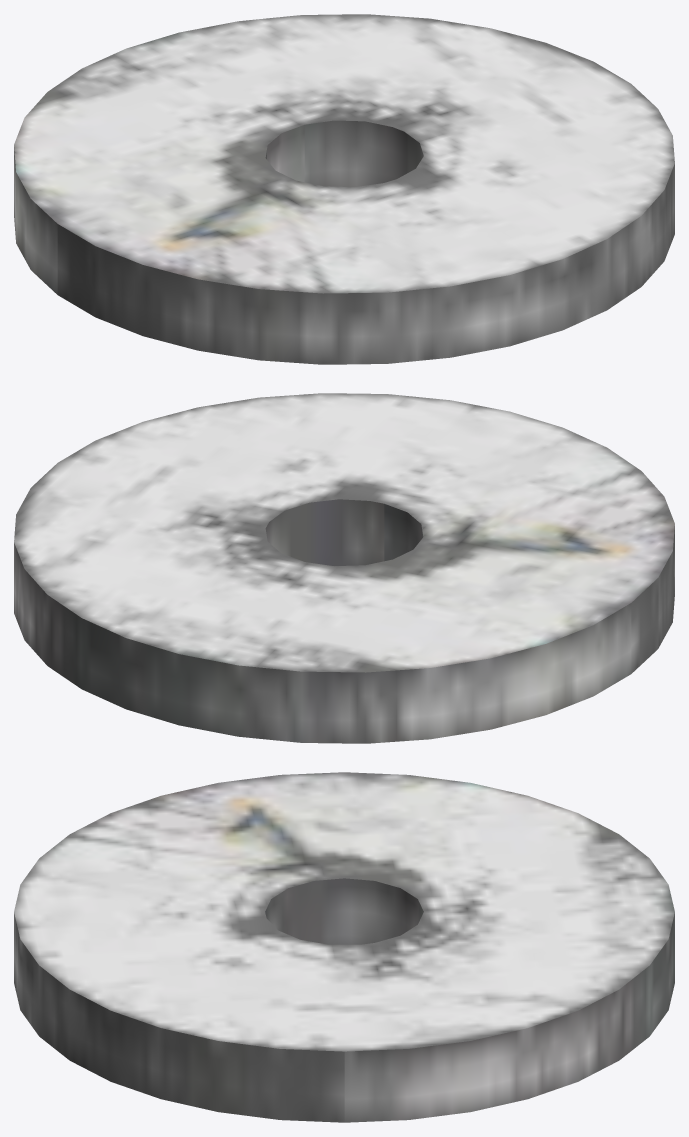
Rendered from poker_chip_v1_white.glb.
The picture shows the model from 3 angles, top to bottom: view 1: azimuth 30°, elevation 25°; view 2: azimuth 150°, elevation 25°; view 3: azimuth 270°, elevation 25°; orthographic projection.
Parts seen in each view (by area): view 1: poker_chip_v1_white; view 2: poker_chip_v1_white; view 3: poker_chip_v1_white.
Part boxes in pixels (x1,y1,x2,y2): poker_chip_v1_white: (14, 14, 674, 364); poker_chip_v1_white: (14, 393, 674, 743); poker_chip_v1_white: (14, 772, 674, 1122).
Bounding box in the file's own units: 0.0442 × 0.00525 × 0.0442.
Materials: 1 (1 with a texture image).
